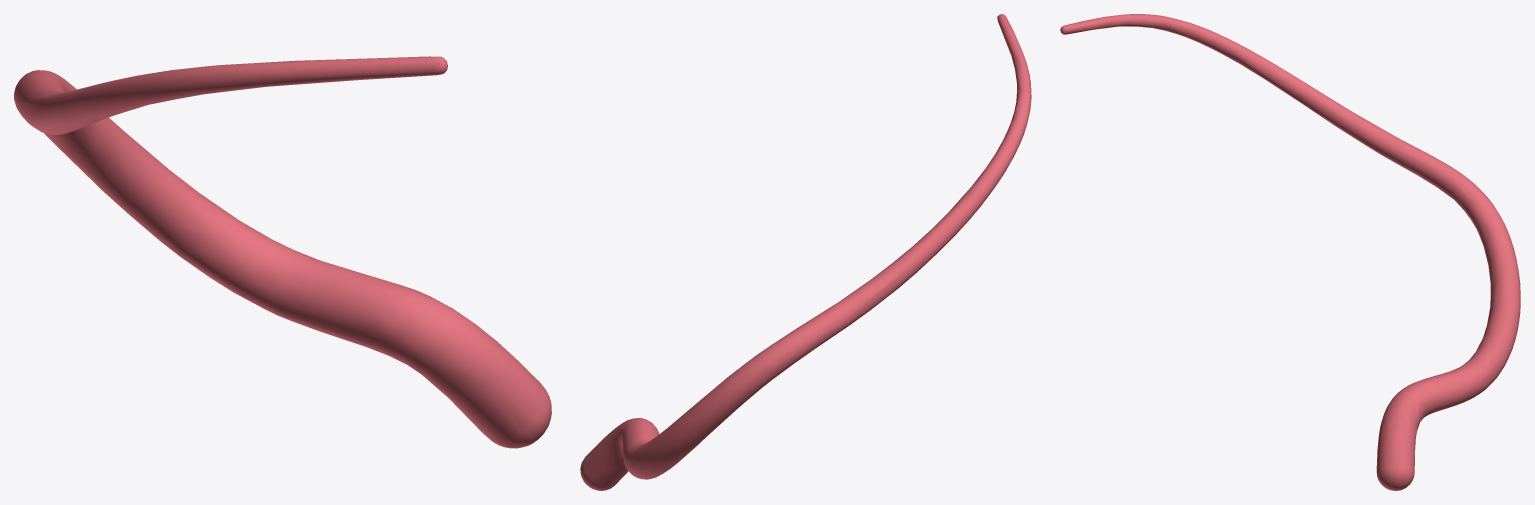
Rendered from fma43892_fj2150.glb.
3 renders of one model, left to right at view 1: azimuth 30°, elevation 25°; view 2: azimuth 150°, elevation 25°; view 3: azimuth 270°, elevation 25°, orthographic. The views are drawn at different scales.
Visible parts, largest first — view 1: FMA43892_FJ2150; view 2: FMA43892_FJ2150; view 3: FMA43892_FJ2150.
Boxes of the visible parts, x1,y1,x2,y2 form: FMA43892_FJ2150: [14, 56, 551, 448]; FMA43892_FJ2150: [580, 14, 1031, 490]; FMA43892_FJ2150: [1060, 14, 1520, 490].
Size of the model in its own units: 0.0365 by 0.0417 by 0.0478.
